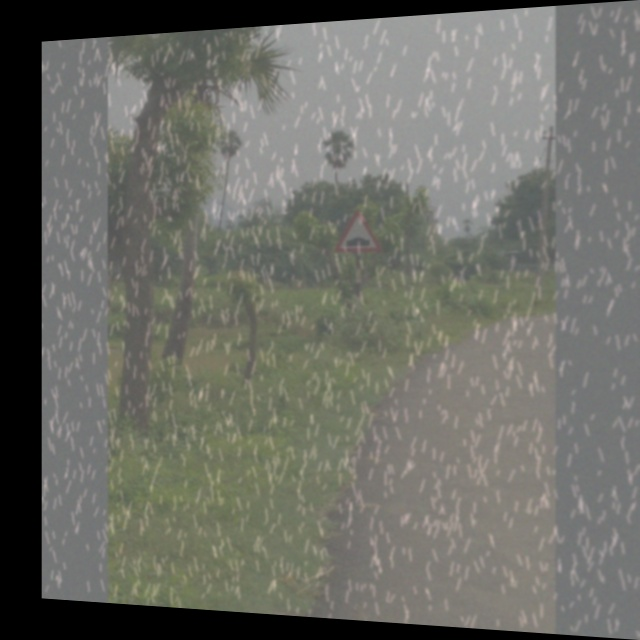Hump_or_Rough_Road: (330, 205, 384, 257)
